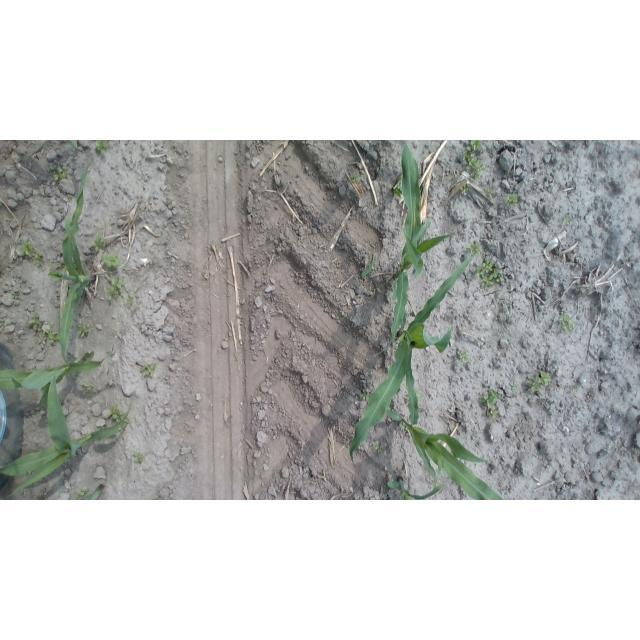Maize: (350, 251, 477, 466), (382, 341, 512, 500), (371, 140, 458, 360), (0, 373, 134, 500), (46, 163, 99, 369), (0, 342, 118, 404), (385, 475, 443, 500), (82, 482, 106, 500)
Weeds: (27, 314, 62, 344), (473, 258, 504, 291), (463, 141, 485, 180), (19, 242, 49, 268), (107, 278, 133, 307), (480, 388, 501, 418), (527, 370, 553, 394), (108, 406, 131, 431), (139, 361, 158, 379), (102, 254, 121, 272), (558, 313, 574, 333), (74, 324, 91, 341), (80, 382, 98, 398), (52, 166, 70, 182), (464, 240, 481, 256), (504, 192, 520, 209), (90, 237, 107, 253), (96, 140, 113, 156), (72, 487, 91, 500), (133, 451, 147, 466), (455, 349, 468, 363), (508, 381, 521, 394), (484, 187, 498, 198), (561, 214, 573, 226), (350, 172, 362, 184), (359, 388, 369, 401), (374, 442, 383, 455), (460, 184, 469, 197), (11, 292, 20, 301)
